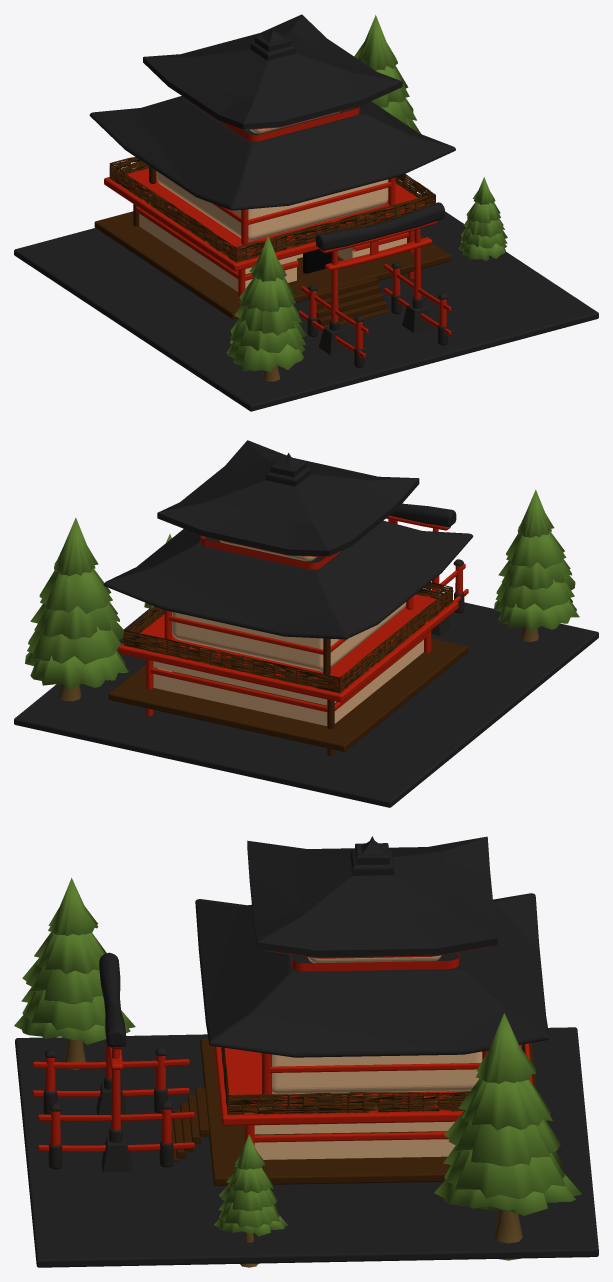
The model's file is temple_22.glb.
3 renders of one model, top to bottom at view 1: azimuth 30°, elevation 25°; view 2: azimuth 150°, elevation 25°; view 3: azimuth 270°, elevation 25°, orthographic. The views are drawn at different scales.
Visible parts, largest first — view 1: Cube.020, Cube.004, Cube.006, Cube, Circle.001, Cube.007, Cube.002, Cube.005, Circle.006, Circle, Cube.001, Cube.022 (+9 smaller); view 2: Cube.020, Cube.004, Cube.006, Circle, Cube, Circle.001, Cube.002, Cube.007, Cube.001, Cube.005, Cube.009, Cube.022 (+2 smaller); view 3: Cube.020, Cube.004, Cube.006, Circle, Circle.001, Cube, Cube.005, Cube.002, Cube.001, Cube.007, Circle.006, Cube.022 (+15 smaller).
Part boxes in pixels (box(x1,y1,x2,y2)): Cube.020: box(14, 195, 598, 411); Cube.004: box(89, 96, 455, 210); Cube.006: box(143, 14, 402, 129); Cube: box(94, 211, 450, 319); Circle.001: box(227, 236, 306, 371); Cube.007: box(109, 157, 435, 262); Cube.002: box(104, 168, 424, 271); Cube.005: box(156, 171, 388, 241); Circle.006: box(459, 177, 507, 259); Circle: box(354, 15, 420, 133); Cube.001: box(139, 214, 406, 291); Cube.022: box(316, 202, 444, 250); Cube.020: box(14, 602, 598, 807); Cube.004: box(103, 520, 473, 639); Cube.006: box(157, 440, 419, 556); Circle: box(25, 517, 128, 690); Cube: box(108, 638, 468, 751); Circle.001: box(494, 489, 579, 631); Cube.002: box(118, 594, 458, 702); Cube.007: box(123, 582, 453, 693); Cube.001: box(153, 639, 423, 725); Cube.005: box(172, 602, 406, 671); Cube.009: box(150, 634, 427, 712); Cube.022: box(390, 503, 456, 526); Cube.020: box(15, 1027, 598, 1267); Cube.004: box(195, 893, 549, 1057); Cube.006: box(247, 836, 497, 958); Circle: box(434, 1013, 581, 1216); Circle.001: box(14, 878, 135, 1044); Cube: box(200, 1038, 536, 1185); Cube.005: box(272, 1051, 482, 1094); Cube.002: box(214, 1043, 532, 1125); Cube.001: box(254, 1121, 455, 1159); Cube.007: box(221, 1044, 525, 1114); Circle.006: box(214, 1134, 288, 1236); Cube.022: box(99, 952, 126, 1047).
Bounding box in the file's own units: 3.9 × 2.52 × 4.12.
